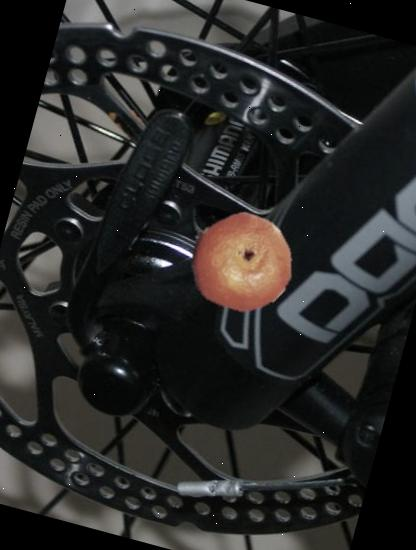Clementine: (175, 198, 304, 327)
